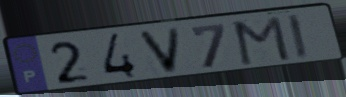2: (48, 39, 93, 86)
4: (99, 31, 141, 81)
7: (189, 21, 230, 71)
I: (284, 12, 312, 62)
M: (231, 14, 293, 67)
V: (135, 26, 184, 76)
